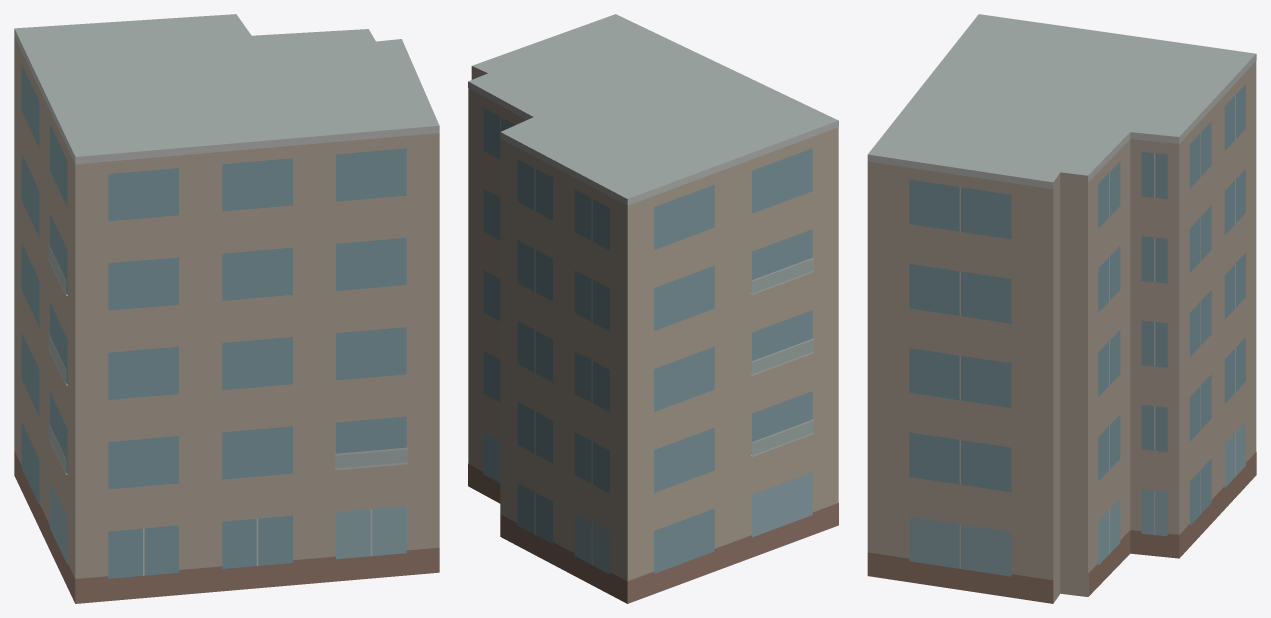
Rendered from survey-upis-32995458.glb.
3 views of the same model, side by side, from view 1: azimuth 30°, elevation 25°; view 2: azimuth 150°, elevation 25°; view 3: azimuth 270°, elevation 25° (orthographic). The views are drawn at different scales.
Visible parts, largest first — view 1: survey-upis-32995458.tmp; view 2: survey-upis-32995458.tmp; view 3: survey-upis-32995458.tmp.
Part boxes in pixels (<box>): survey-upis-32995458.tmp: <box>14,14,439,603</box>; survey-upis-32995458.tmp: <box>468,14,838,603</box>; survey-upis-32995458.tmp: <box>867,14,1256,603</box>.
Size of the model in its own units: 12.78 by 14.9 by 12.47.
